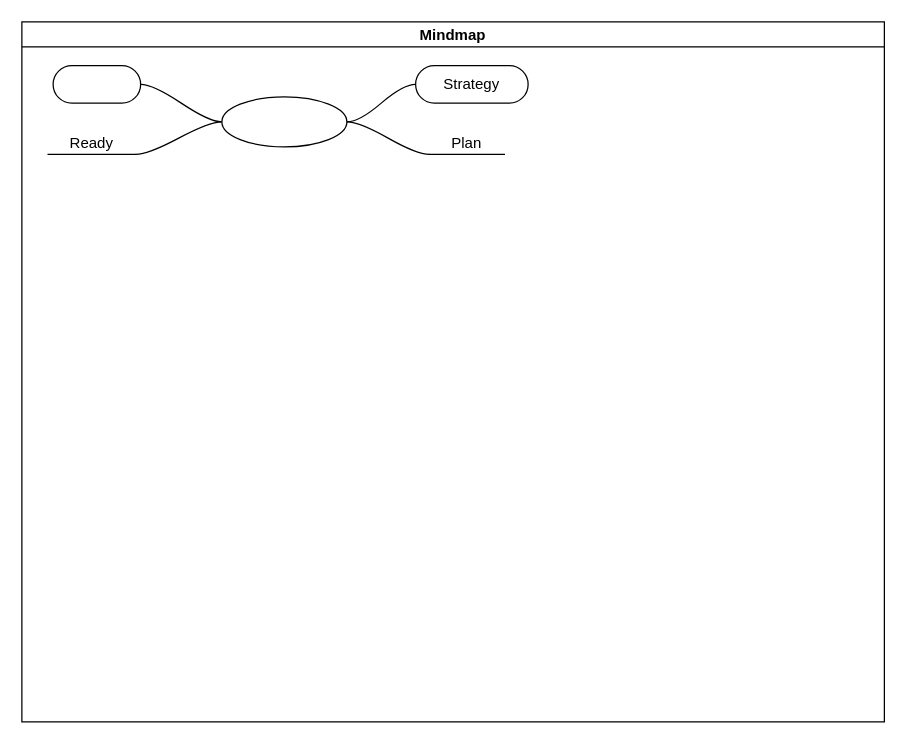
The diagram is 906 pixels wide and 744 high, and some of its shapes have lost their labels. The shapes that lost their labels are listed below. From the top down, each one's centre as x and y in pixels, then its label:
At pixel 96 83: "Adopt".
At pixel 284 121: "CAF".
